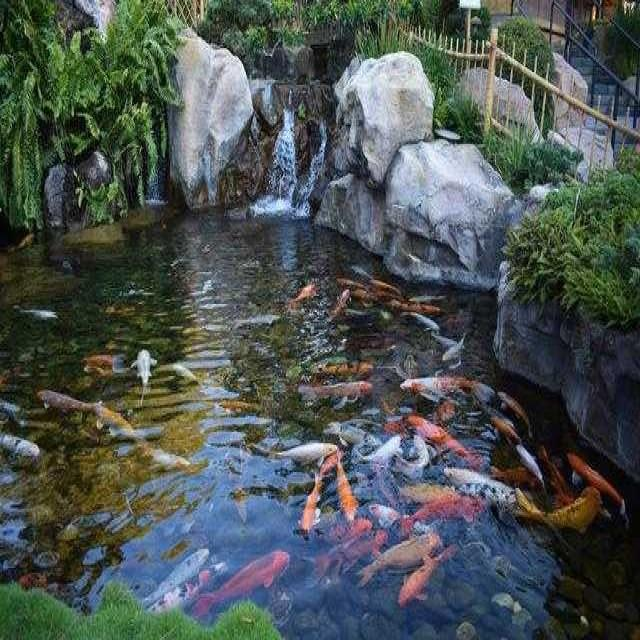Ponds: (1, 39, 640, 640)
